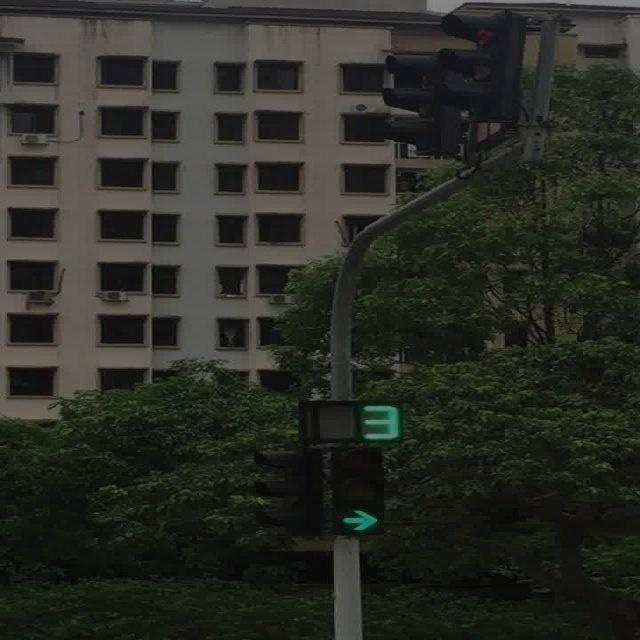Green: (332, 446, 384, 536)
